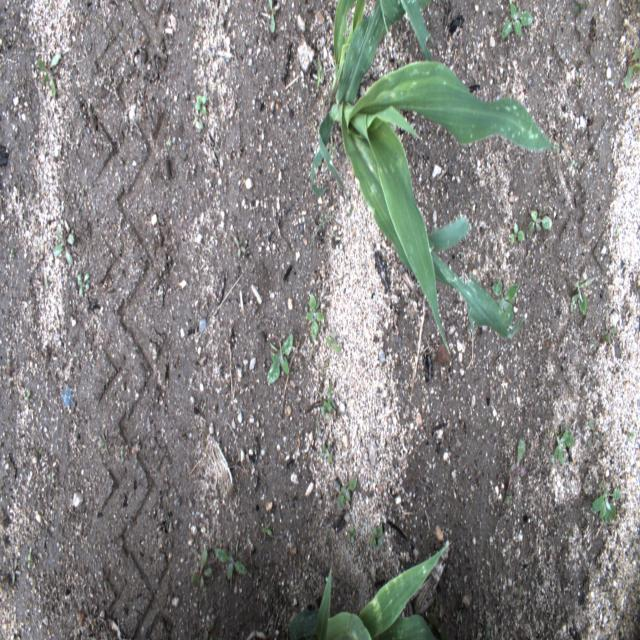crop: (310, 0, 559, 352), (287, 546, 448, 639)
weed: (589, 478, 622, 526), (266, 333, 294, 383), (37, 50, 63, 101), (499, 0, 531, 41), (493, 280, 517, 326), (305, 291, 326, 342), (215, 548, 247, 580), (552, 427, 576, 468), (570, 277, 591, 317), (192, 550, 212, 588), (53, 226, 74, 262), (526, 207, 553, 234), (624, 45, 640, 90), (311, 215, 334, 241), (338, 477, 357, 507), (322, 383, 334, 422), (588, 418, 602, 449), (195, 96, 208, 128), (369, 525, 384, 550), (77, 271, 91, 296), (9, 556, 21, 584), (268, 0, 278, 33), (600, 326, 618, 344), (3, 357, 12, 391), (511, 223, 526, 243), (325, 336, 342, 353), (260, 522, 274, 542), (321, 441, 333, 464), (517, 435, 526, 465), (316, 57, 324, 89), (235, 238, 245, 263), (572, 1, 587, 16), (205, 622, 214, 640), (346, 528, 356, 544), (455, 606, 462, 624), (503, 495, 513, 507), (485, 620, 491, 639), (24, 388, 31, 402), (27, 551, 32, 570), (518, 582, 524, 597), (8, 246, 14, 261), (628, 431, 636, 440)
